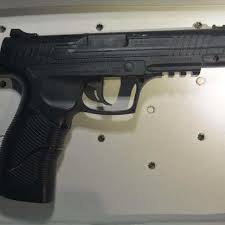gun: (1, 26, 225, 203)
